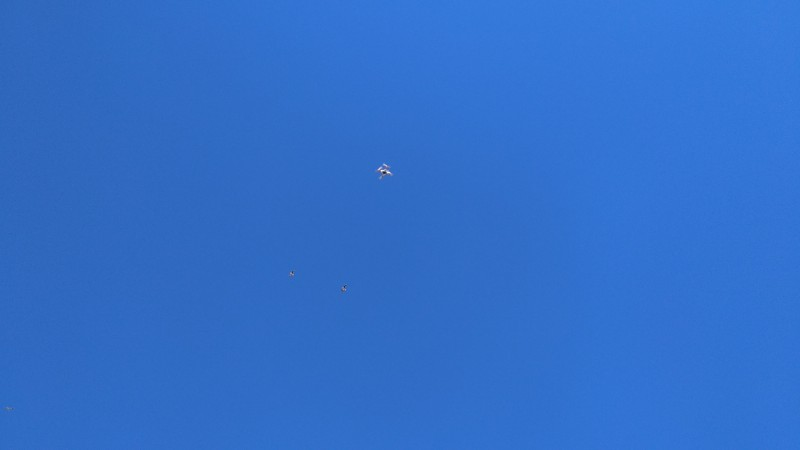drone: (376, 163, 395, 181)
